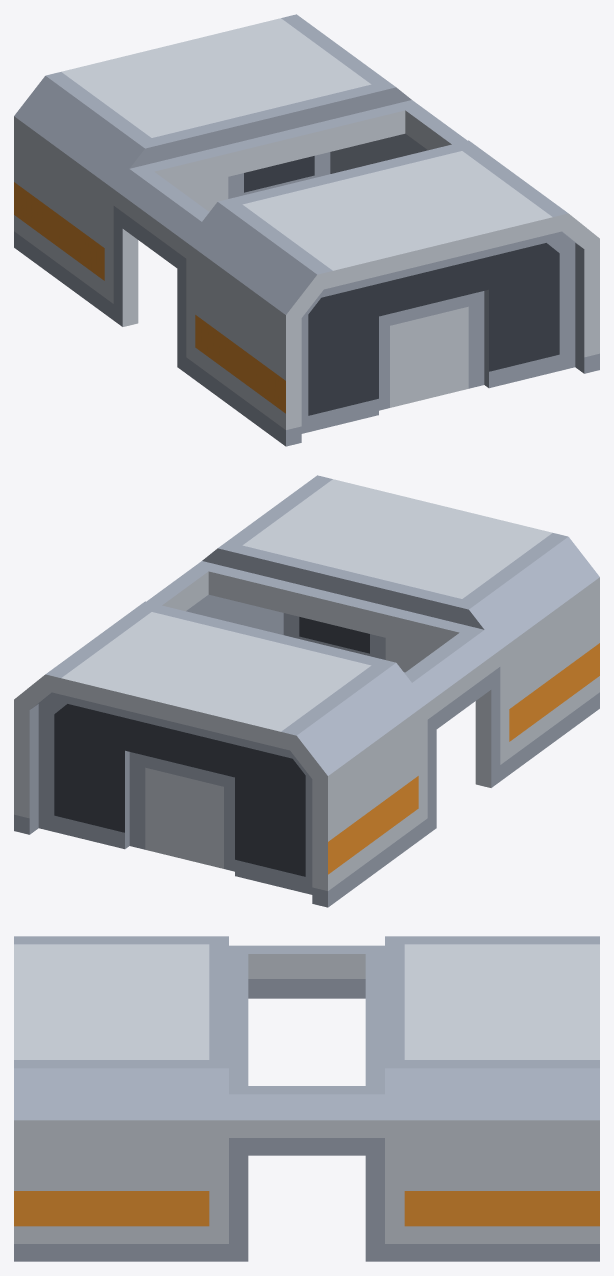
Rendered from hangar_largeA.dae.
3 renders of one model, top to bottom at view 1: azimuth 30°, elevation 25°; view 2: azimuth 150°, elevation 25°; view 3: azimuth 270°, elevation 25°, orthographic. The views are drawn at different scales.
Visible parts, largest first — view 1: hangar_largeA, gate (×2); view 2: hangar_largeA, gate (×2); view 3: hangar_largeA.
Boxes of the visible parts, bbox=[...] form: hangar_largeA: bbox=[14, 14, 599, 446]; gate (×2): bbox=[178, 152, 575, 433]; hangar_largeA: bbox=[14, 475, 599, 907]; gate (×2): bbox=[38, 613, 435, 894]; hangar_largeA: bbox=[14, 936, 599, 1261].
Size of the model in its own units: 2 by 1 by 3.
